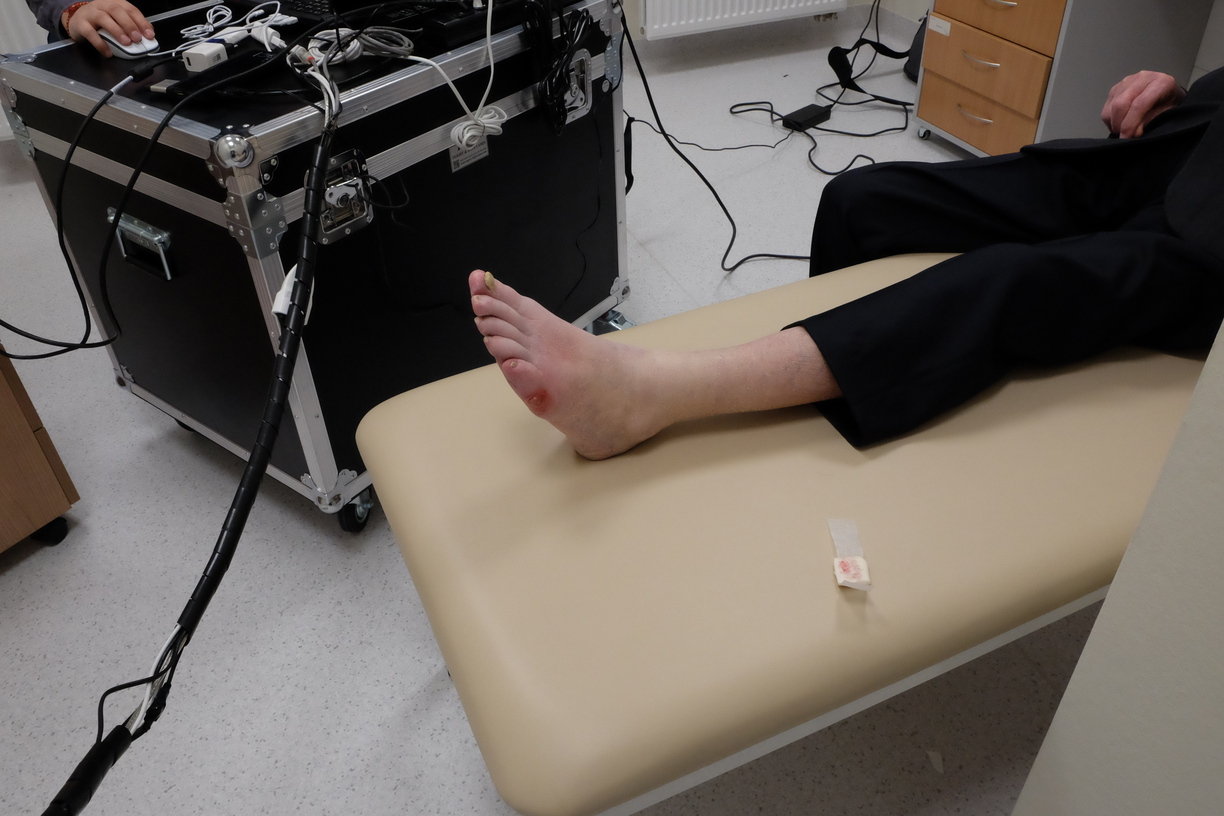wound: (520, 385, 550, 414)
